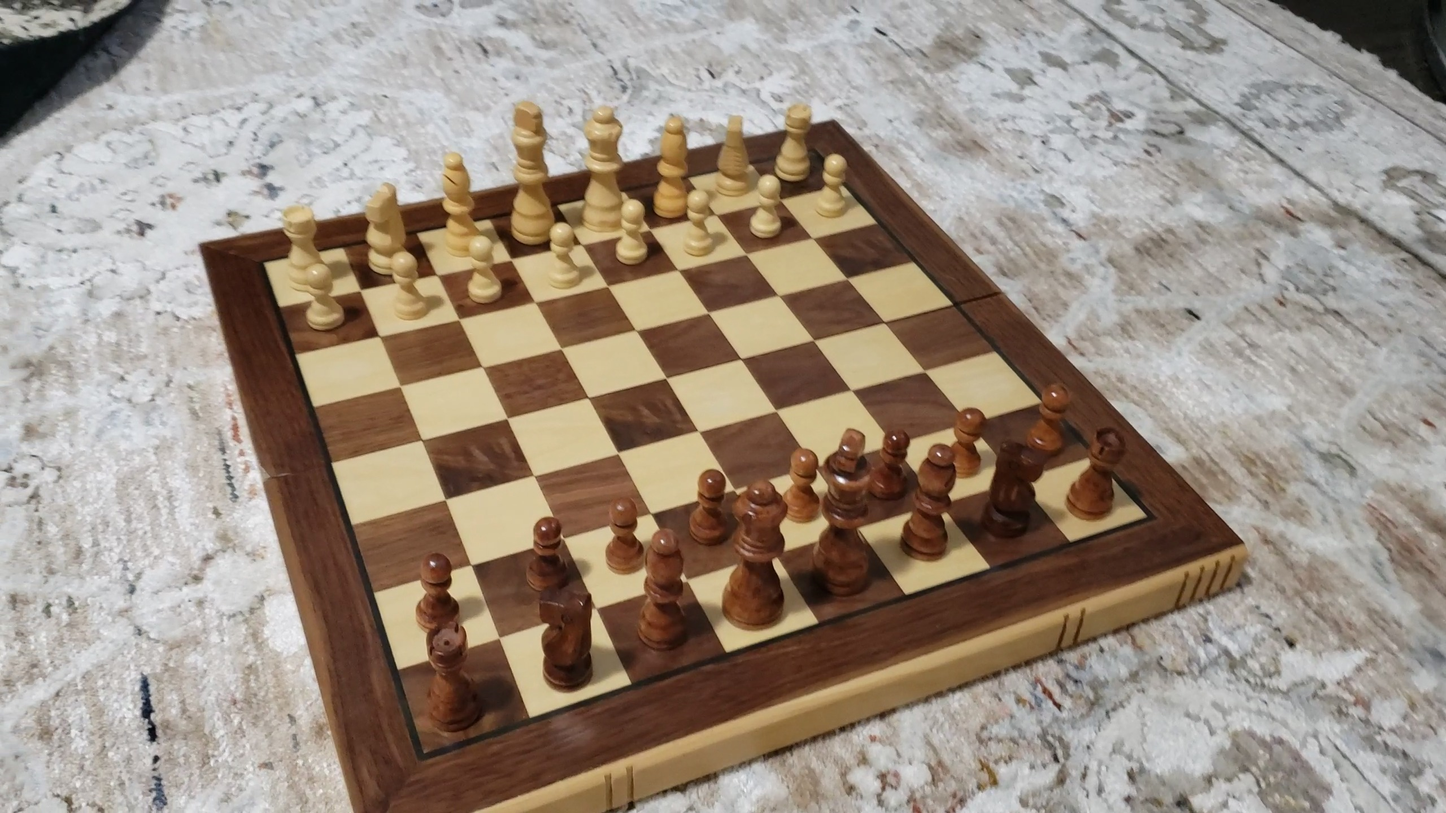black-bishop: (635, 525, 690, 653), (902, 445, 959, 562)
black-king: (807, 426, 891, 606)
black-knight: (977, 436, 1048, 540), (535, 578, 596, 692)
black-pawn: (412, 551, 464, 637), (1023, 378, 1075, 458), (524, 513, 572, 599), (688, 465, 736, 547), (602, 493, 647, 575), (782, 445, 822, 525), (947, 403, 988, 479), (874, 428, 912, 500)
black-queen: (720, 479, 792, 634)
black-rook: (422, 623, 485, 735), (1065, 426, 1127, 521)
white-bishop: (437, 148, 482, 258), (650, 109, 691, 221)
white-king: (507, 95, 553, 248)
white-knight: (361, 179, 408, 278), (712, 110, 753, 199)
white-pawn: (291, 260, 352, 337), (382, 248, 435, 326), (806, 148, 857, 224), (459, 230, 507, 310), (538, 219, 587, 294), (676, 186, 722, 263), (742, 169, 789, 244), (609, 194, 654, 271)
white-queen: (581, 101, 626, 234)
white-rook: (276, 200, 333, 292), (773, 98, 817, 185)
